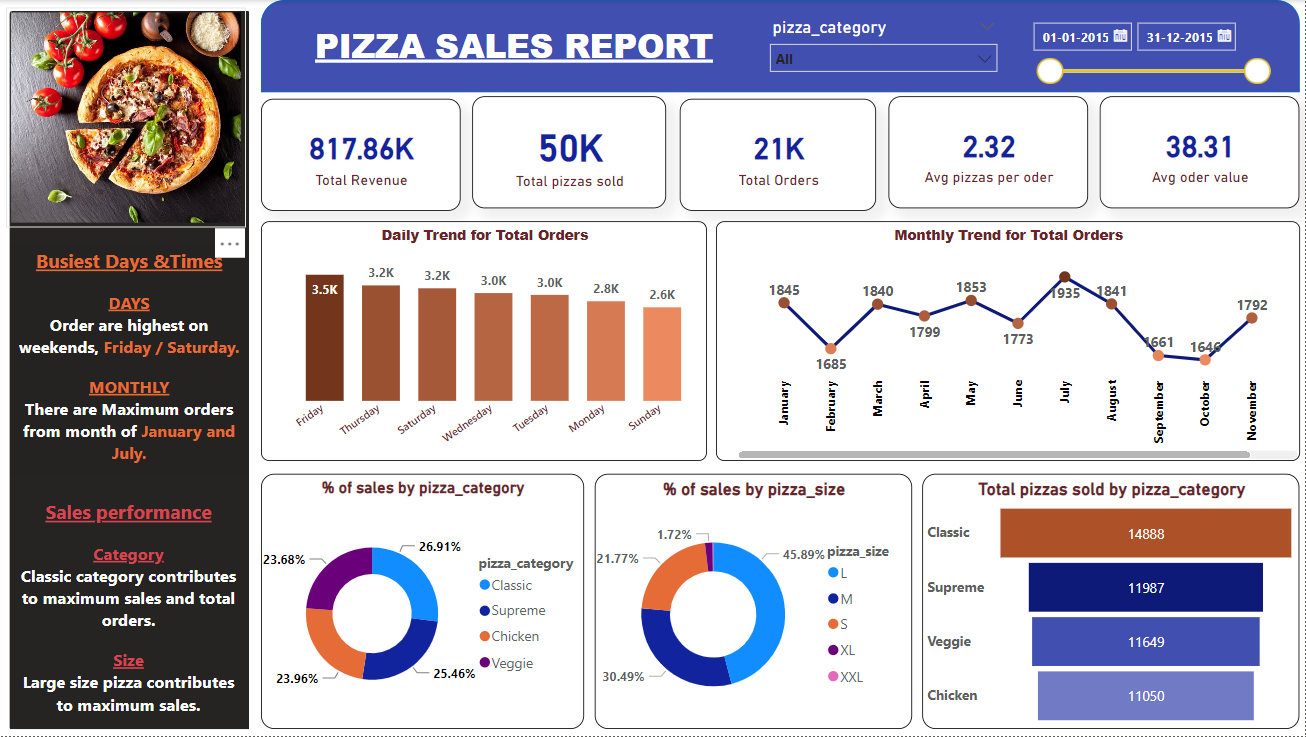

Layout of this report page (visuals, bound fields, positions):
{"tool":"powerbi","page":{"name":"Page 1","canvas":[1280,720],"ordinal":0},"visuals":[{"type":"shape","box":[12.3,9.6,236,703.9],"z":0},{"type":"card","fields":{"Values":["pizza_sales.Total Revenue"]},"box":[259.3,96.1,194.9,109.8],"z":1000},{"type":"card","fields":{"Values":["pizza_sales.Avg oder value"]},"box":[1079.9,94.7,194.9,109.8],"z":2000},{"type":"card","fields":{"Values":["pizza_sales.Total Orders"]},"box":[668.3,96.6,192.1,109.8],"z":3000},{"type":"card","fields":{"Values":["pizza_sales.Total pizzas sold"]},"box":[465.2,94.7,189.4,109.8],"z":4000},{"type":"card","fields":{"Values":["pizza_sales.Avg pizzas per oder"]},"box":[872.7,94.7,194.9,109.8],"z":5000},{"type":"columnChart","title":"Daily Trend for Total Orders","fields":{"Category":["pizza_sales.Day Name"],"Y":["pizza_sales.Total Orders"]},"box":[259.3,216.8,436.4,234.6],"z":6000},{"type":"lineChart","title":"Monthly Trend for Total Orders","fields":{"Category":["pizza_sales.order_date.Variation.Date Hierarchy.Month"],"Y":["pizza_sales.Total Orders"]},"box":[703.9,216.8,570.8,234.6],"z":7000},{"type":"shape","box":[259.2,0,1015.8,90.5],"z":8000},{"type":"donutChart","title":"% of sales by pizza_category","fields":{"Y":["pizza_sales.Total Revenue"],"Category":["pizza_sales.pizza_category"]},"box":[259.3,463.8,315.6,249.7],"z":9000},{"type":"donutChart","title":"% of sales by pizza_size","fields":{"Y":["pizza_sales.Total Revenue"],"Category":["pizza_sales.pizza_size"]},"box":[585.9,463.8,310.1,249.7],"z":10000},{"type":"funnel","fields":{"Y":["pizza_sales.Total pizzas sold"],"Category":["pizza_sales.pizza_category"]},"box":[905.7,463.8,369.1,249.7],"z":11000},{"type":"textbox","box":[13.4,237.1,233.5,227.4],"z":12000},{"type":"textbox","box":[12.2,482.9,234.7,223.7],"z":13000},{"type":"slicer","fields":{"Values":["pizza_sales.pizza_category"]},"box":[745.1,11,244.3,75.5],"z":14000},{"type":"textbox","box":[284,8.2,446,76.8],"z":15000},{"type":"slicer","fields":{"Values":["pizza_sales.order_date"]},"box":[1001.7,11,253.9,75.5],"z":16000},{"type":"image","box":[9.8,7.3,234.7,215.1],"z":17000}]}

Visuals, with their boxes in screenshot pixels (x1, y1, x2, y2), scaled from the page's 1280x720 canvas onto the 1306x737 screenshot:
shape: x1=13, y1=10, x2=253, y2=730
card - pizza_sales.Total Revenue: x1=265, y1=98, x2=463, y2=211
card - pizza_sales.Avg oder value: x1=1102, y1=97, x2=1301, y2=209
card - pizza_sales.Total Orders: x1=682, y1=99, x2=878, y2=211
card - pizza_sales.Total pizzas sold: x1=475, y1=97, x2=668, y2=209
card - pizza_sales.Avg pizzas per oder: x1=890, y1=97, x2=1089, y2=209
"Daily Trend for Total Orders" columnChart: x1=265, y1=222, x2=710, y2=462
"Monthly Trend for Total Orders" lineChart: x1=718, y1=222, x2=1301, y2=462
shape: x1=264, y1=0, x2=1301, y2=93
"% of sales by pizza_category" donutChart: x1=265, y1=475, x2=587, y2=730
"% of sales by pizza_size" donutChart: x1=598, y1=475, x2=914, y2=730
funnel - pizza_sales.Total pizzas sold x pizza_sales.pizza_category: x1=924, y1=475, x2=1301, y2=730
textbox: x1=14, y1=243, x2=252, y2=475
textbox: x1=12, y1=494, x2=252, y2=723
slicer - pizza_sales.pizza_category: x1=760, y1=11, x2=1009, y2=89
textbox: x1=290, y1=8, x2=745, y2=87
slicer - pizza_sales.order_date: x1=1022, y1=11, x2=1281, y2=89
image: x1=10, y1=7, x2=249, y2=228
